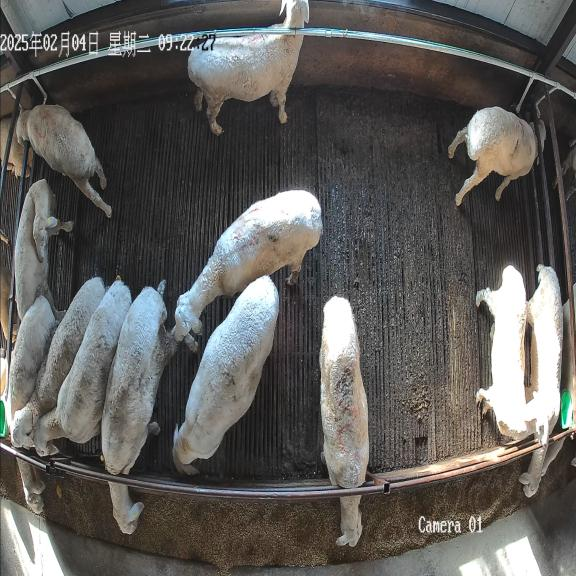drinking: (13, 104, 111, 217), (449, 106, 549, 206)
eating: (101, 280, 178, 537), (319, 296, 369, 546), (8, 296, 58, 513), (520, 264, 563, 497)
stand: (174, 190, 322, 341), (172, 276, 279, 474), (33, 280, 132, 456), (188, 0, 309, 135), (11, 277, 106, 448), (476, 265, 548, 444), (14, 179, 73, 320)
